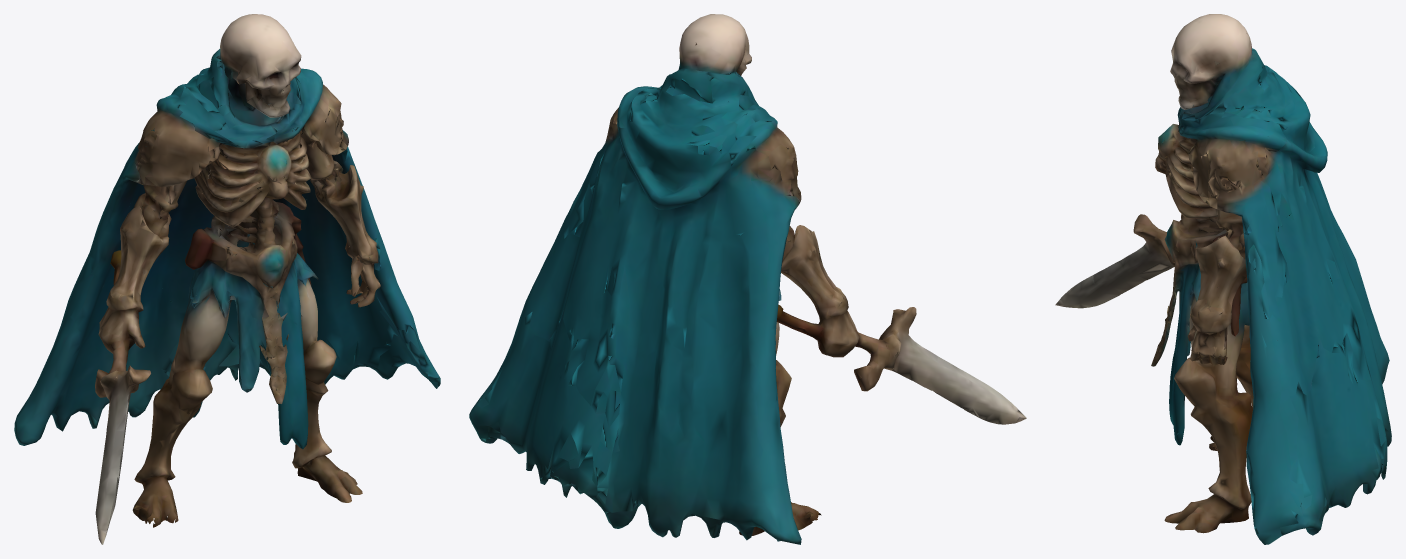
Rendered from fig_crypt_sentinel.glb.
3 views of the same model, side by side, from view 1: azimuth 30°, elevation 25°; view 2: azimuth 150°, elevation 25°; view 3: azimuth 270°, elevation 25° (orthographic). The views are drawn at different scales.
Parts seen in each view (by area): view 1: fig_crypt_sentinel; view 2: fig_crypt_sentinel; view 3: fig_crypt_sentinel.
Part boxes in pixels (x1,y1,x2,y2): fig_crypt_sentinel: (14,14,440,544); fig_crypt_sentinel: (469,14,1026,544); fig_crypt_sentinel: (1055,14,1391,544).
Bounding box in the file's own units: 0.92 × 0.9535 × 0.6175.
1 material, 1 textured.
